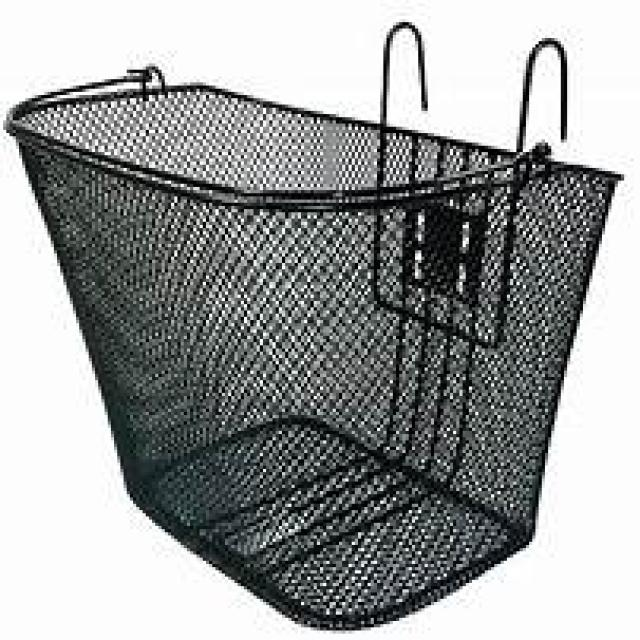basket: (3, 21, 626, 632)
